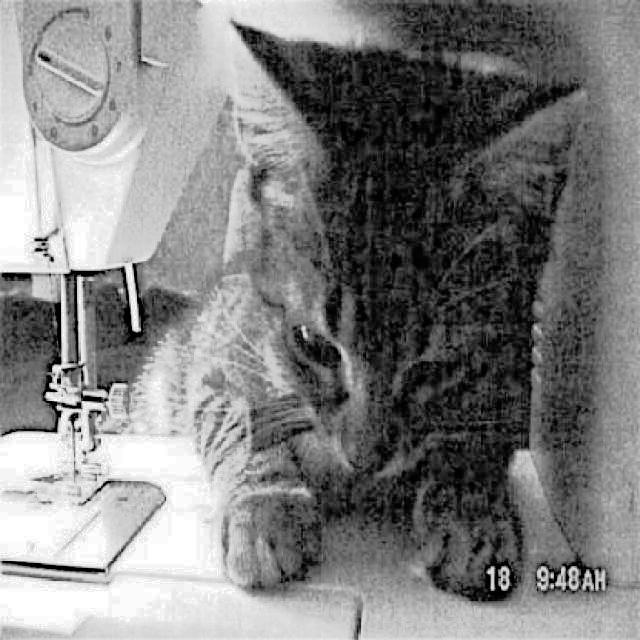Cat: (113, 16, 596, 602)
